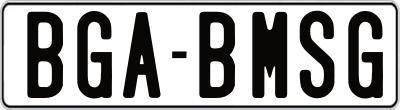A: (120, 9, 158, 101)
B: (27, 11, 67, 101), (197, 11, 233, 103)
G: (74, 11, 115, 104), (346, 8, 385, 97)
M: (250, 9, 286, 101)
S: (297, 8, 331, 98)
